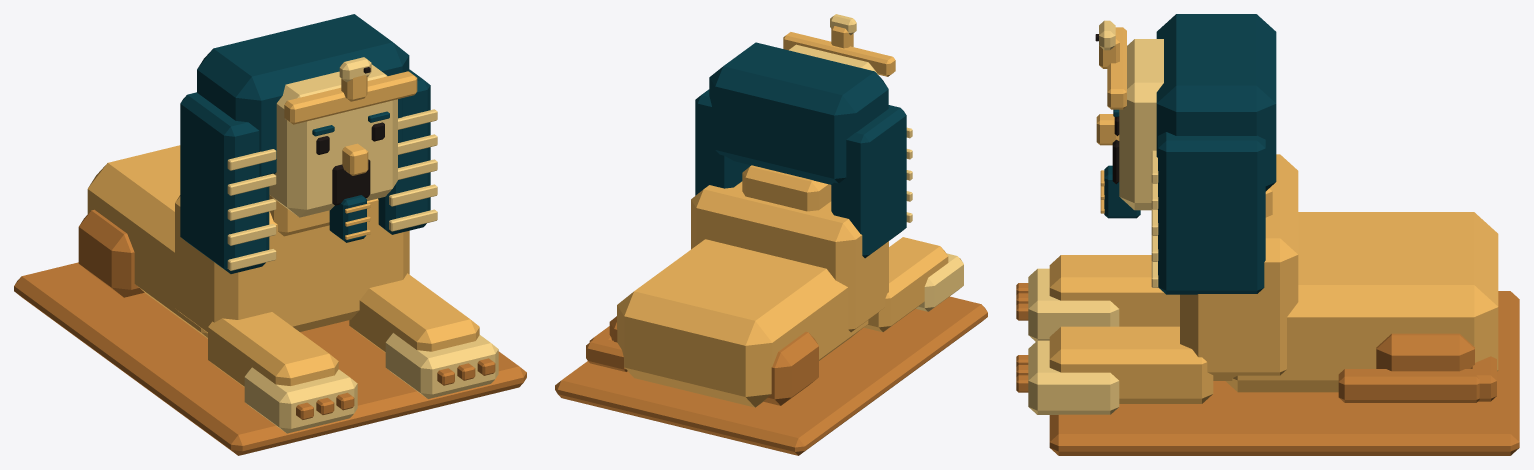
The model's file is esfinge-blockie-redemoinho.glb.
3 renders of one model, left to right at view 1: azimuth 30°, elevation 25°; view 2: azimuth 150°, elevation 25°; view 3: azimuth 270°, elevation 25°, orthographic. The views are drawn at different scales.
Visible parts, largest first — view 1: esfinge-blockie-redemoinho; view 2: esfinge-blockie-redemoinho; view 3: esfinge-blockie-redemoinho.
Part boxes in pixels (<box>): esfinge-blockie-redemoinho: <box>14,14,526,455</box>; esfinge-blockie-redemoinho: <box>555,14,987,455</box>; esfinge-blockie-redemoinho: <box>1016,14,1519,455</box>.
Bounding box in the file's own units: 2.35 × 2.61 × 3.32.
1 material, 1 textured.
